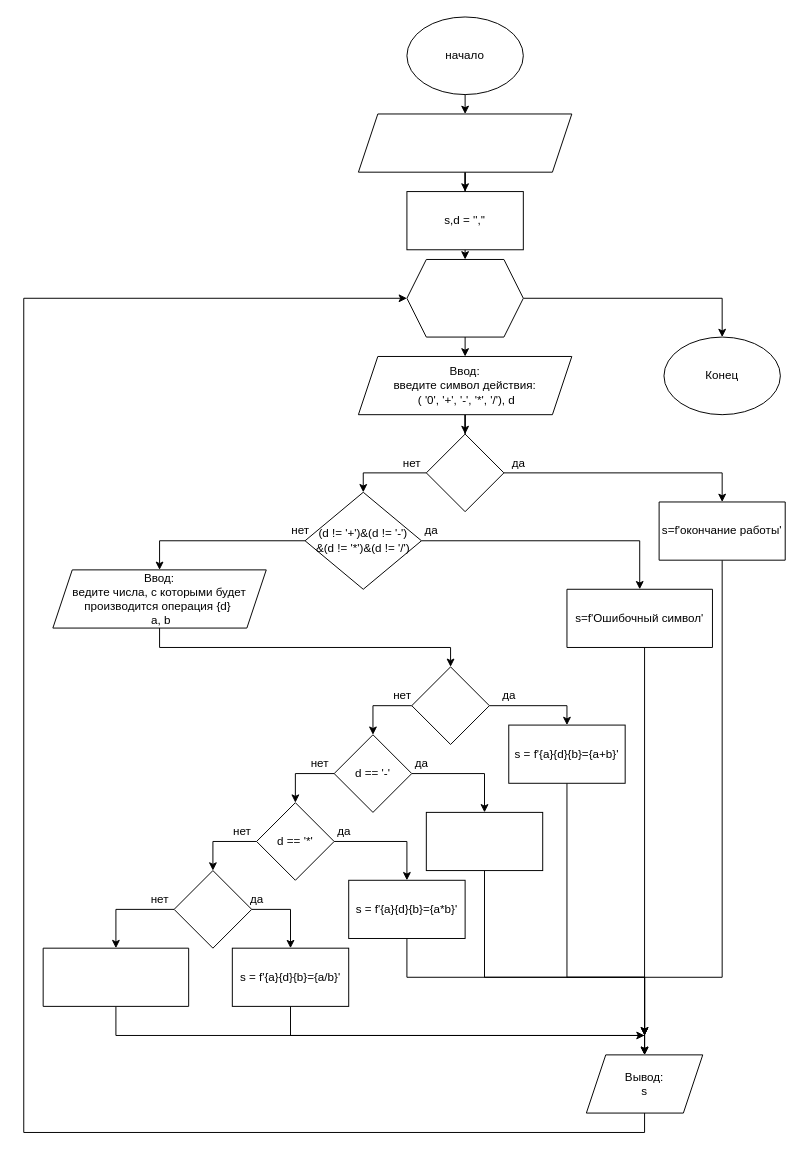
This 802x1157 diagram has some shape labels left out. The centre of each missing label's shape, as x and y in pixels:
b != 0: point (212, 909)
d == '+': point (450, 705)
d == '0': point (464, 472)
s = f'{a}{d}{b}={a-b}': point (484, 841)
s=f'на "0" делить нельзя': point (115, 976)
while d != '0': point (464, 298)
Вывод: Программа складывает, вычитает, умножает и делит два числа: point (464, 142)
